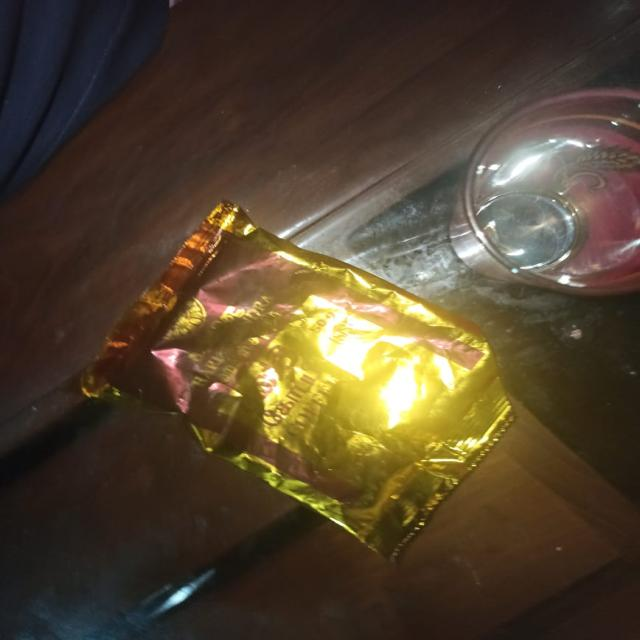Harischandra Coffee: (44, 190, 535, 571)
